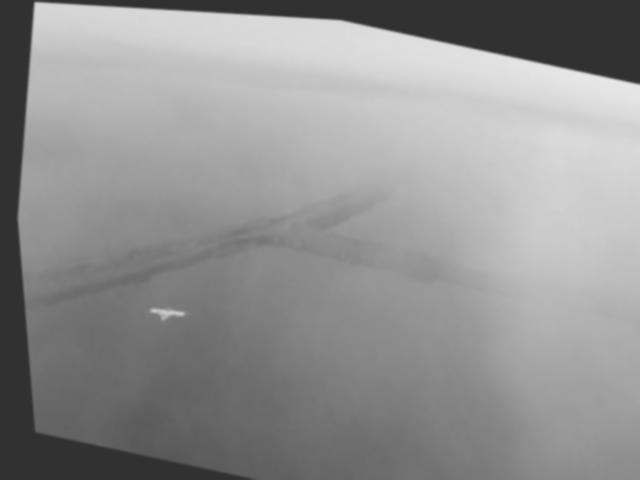hedef: (135, 292, 191, 332)
